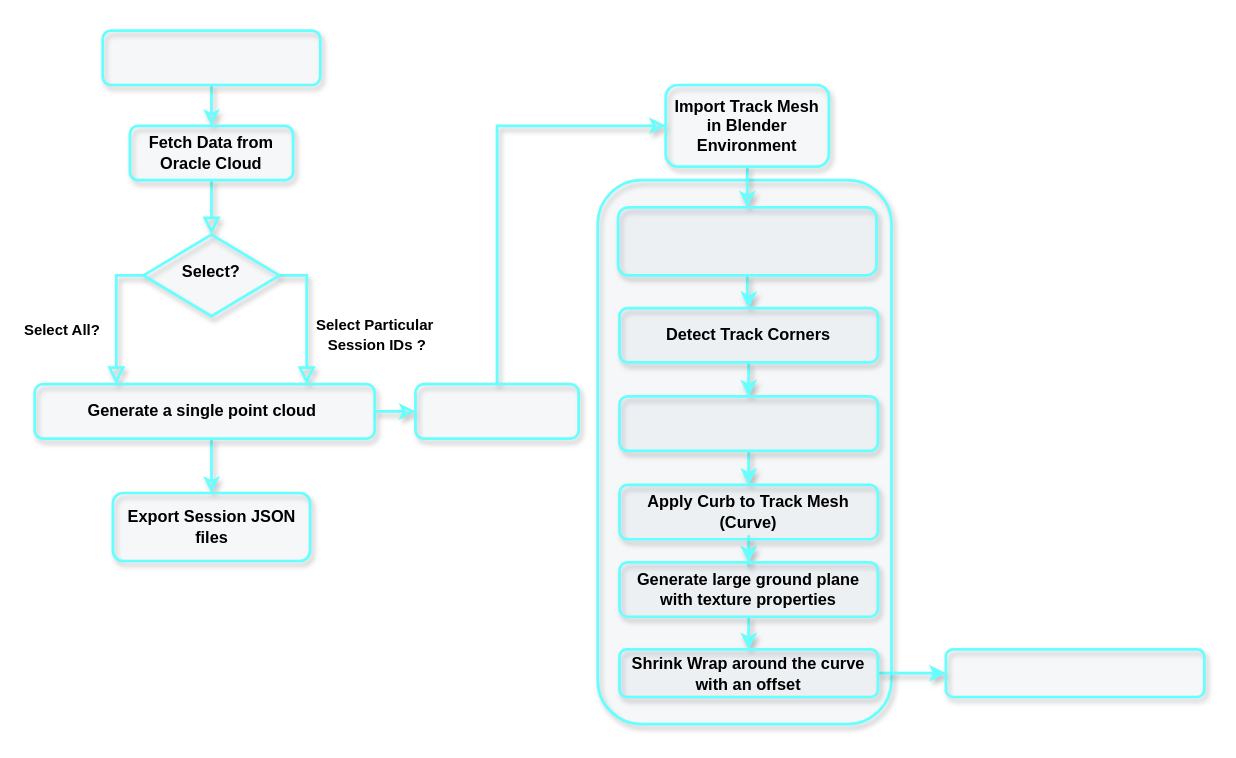
Some shapes in this 1236 by 758 pixel diagram are drawn without their labels. The shapes that lost their labels are listed below. From the top down, each one's centre as x and y in pixels, then its label:
the point at 212,59: User Input : Track ID
the point at 748,243: Apply Road Texture (based on TRACK ID)
the point at 498,413: Mesh Generation
the point at 749,425: Create curb pattern with color properties
the point at 1075,674: Render Track Environment
